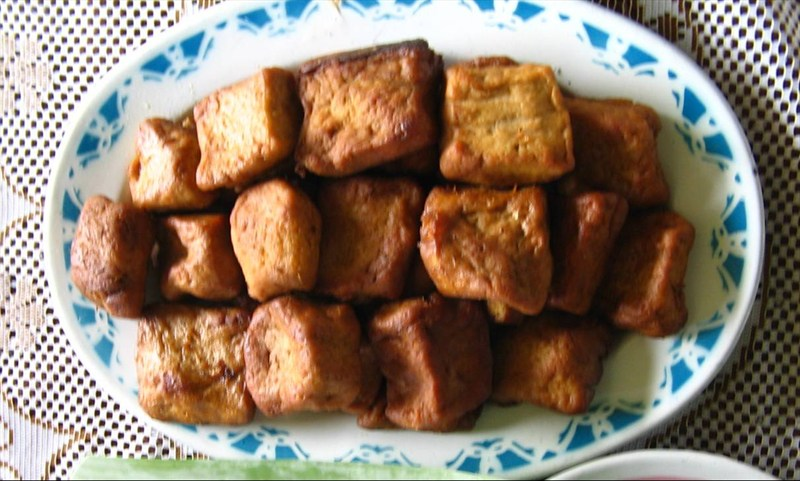Tahu Goreng: (137, 67, 678, 398)
